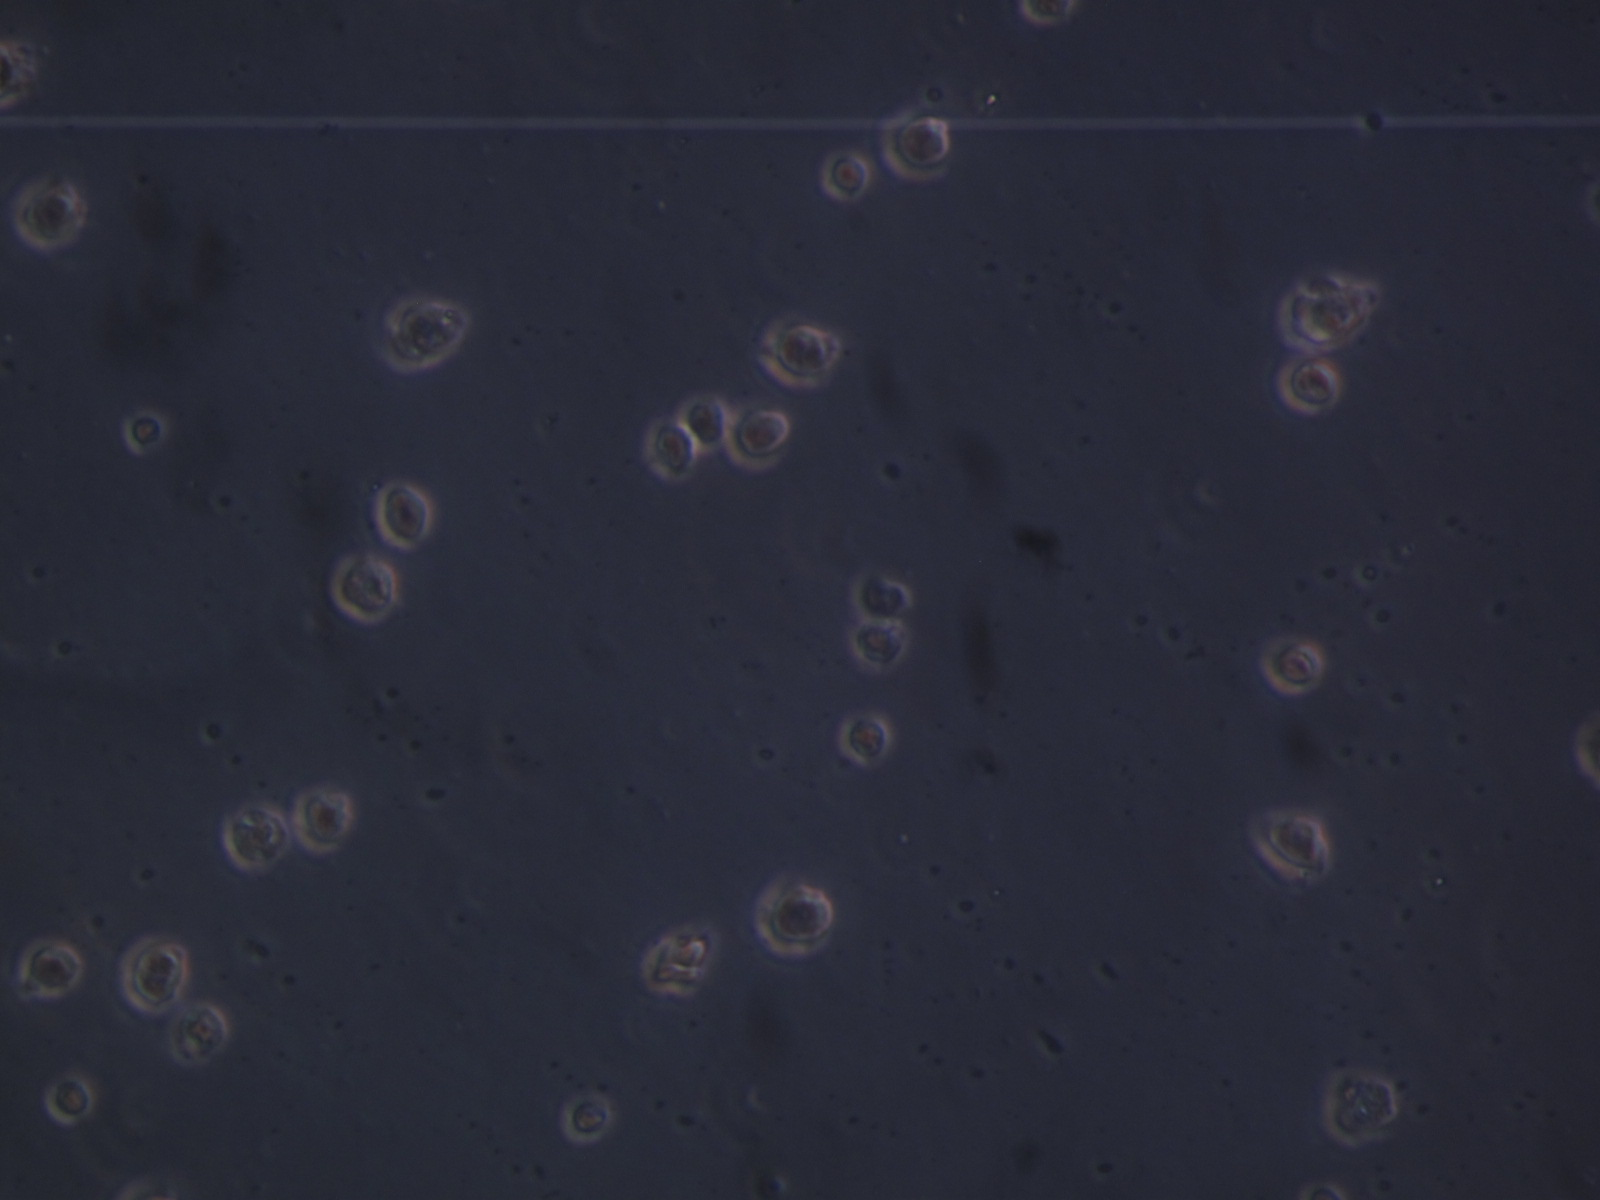hemo: (1276, 272, 1381, 353), (1324, 1063, 1398, 1145), (380, 299, 469, 367), (757, 880, 834, 957), (1254, 812, 1333, 884), (118, 935, 190, 1012), (882, 105, 950, 184), (758, 316, 838, 383), (328, 552, 401, 621), (11, 178, 83, 245), (226, 803, 294, 868), (1279, 355, 1344, 418), (291, 790, 353, 857), (377, 479, 433, 547), (645, 417, 700, 487), (171, 1002, 231, 1065), (729, 407, 787, 471), (24, 937, 87, 993), (838, 707, 894, 769), (678, 389, 734, 450), (1264, 637, 1322, 695), (852, 568, 912, 621), (854, 618, 912, 669), (558, 1093, 615, 1143), (45, 1075, 98, 1126), (820, 155, 868, 204), (123, 408, 169, 454), (1024, 1, 1078, 24)
